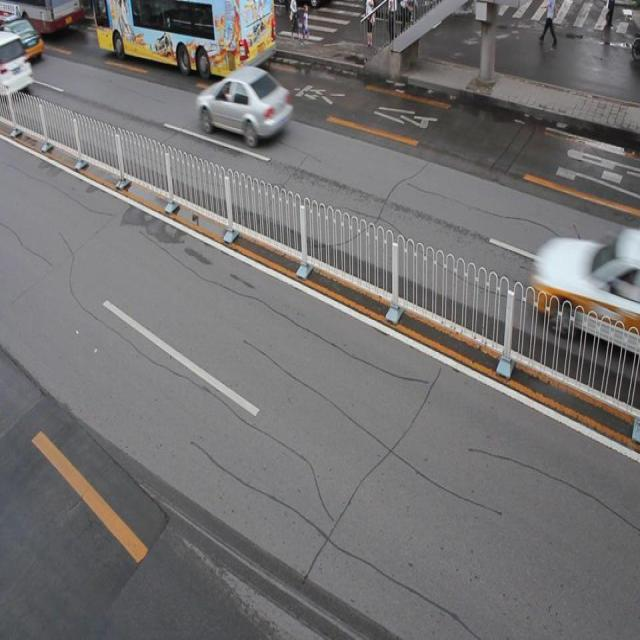car: (532, 230, 640, 358), (197, 64, 292, 148), (1, 17, 43, 64)
truck: (1, 33, 34, 96)
van: (93, 1, 274, 75)
